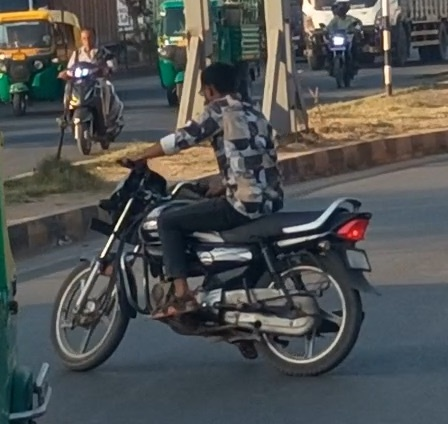BikeWithRider: (42, 55, 386, 382), (51, 22, 130, 159), (314, 0, 368, 91)
NoHelmet: (193, 57, 243, 113), (74, 24, 101, 52)
